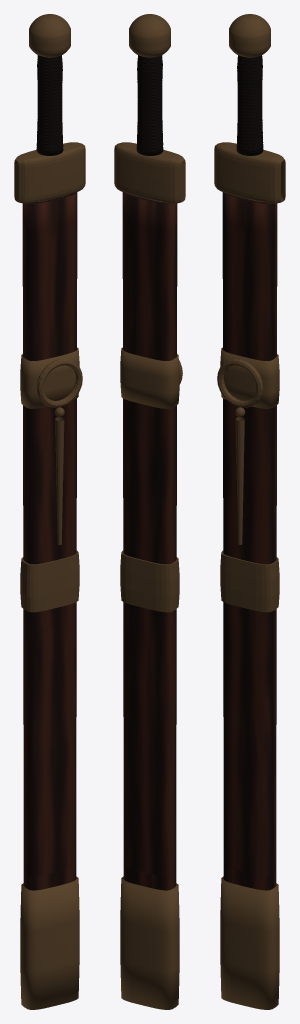
Rendered from jian.glb.
3 views of the same model, side by side, from view 1: azimuth 30°, elevation 25°; view 2: azimuth 150°, elevation 25°; view 3: azimuth 330°, elevation 25° (orthographic).
Visible parts, largest first — view 1: scabbard, chape, slide, guard, grip, pommel, wrap; view 2: scabbard, chape, slide, guard, grip, pommel, wrap; view 3: scabbard, chape, slide, guard, grip, pommel, wrap.
Part boxes in pixels (<box>): scabbard: <box>22,192,77,890</box>; chape: <box>20,876,79,1009</box>; slide: <box>20,347,82,612</box>; guard: <box>14,142,85,203</box>; grip: <box>36,55,63,155</box>; pommel: <box>29,14,70,57</box>; wrap: <box>36,55,63,152</box>; scabbard: <box>122,192,177,890</box>; chape: <box>120,876,179,1009</box>; slide: <box>120,347,182,612</box>; guard: <box>114,142,185,203</box>; grip: <box>136,55,163,155</box>; pommel: <box>129,14,170,57</box>; wrap: <box>136,55,163,153</box>; scabbard: <box>222,192,277,890</box>; chape: <box>220,876,279,1009</box>; slide: <box>217,347,279,612</box>; guard: <box>214,142,285,203</box>; grip: <box>236,55,263,155</box>; pommel: <box>229,14,270,57</box>; wrap: <box>236,56,263,151</box>.
Size of the model in its own units: 0.083 by 1.17 by 0.0492.
5 materials, 2 textured.
